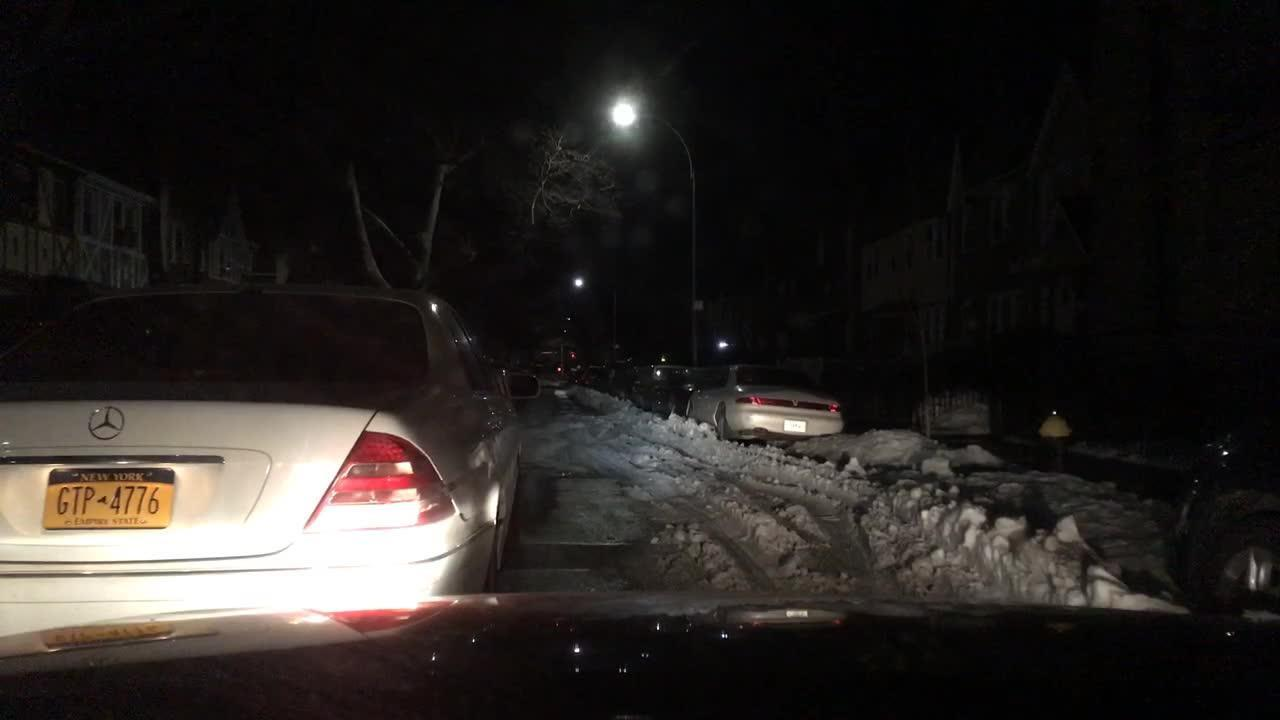Mercedes: (73, 396, 151, 459)
